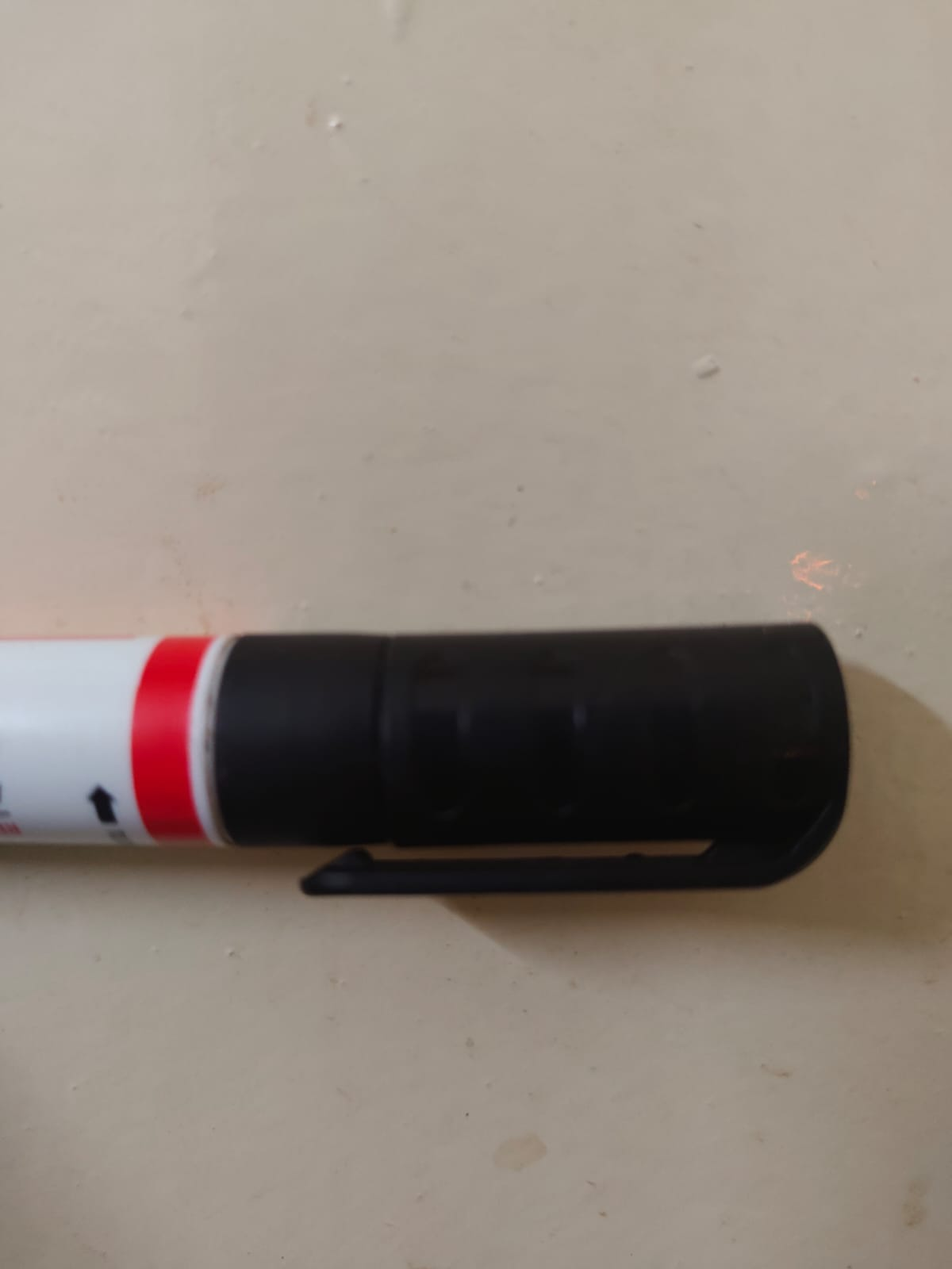case: (0, 599, 879, 940)
